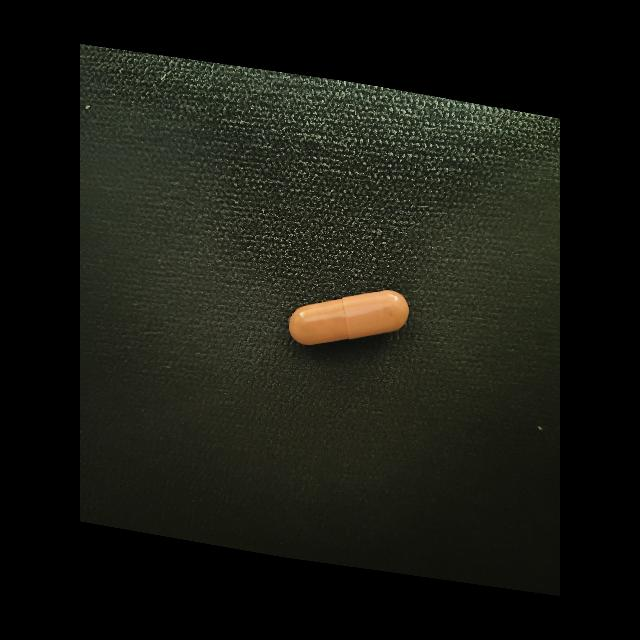Intact Capsule: (289, 290, 409, 345)
